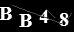4: (38, 9, 51, 24)
8: (58, 12, 69, 27)
B: (18, 13, 33, 28), (1, 6, 12, 22)
